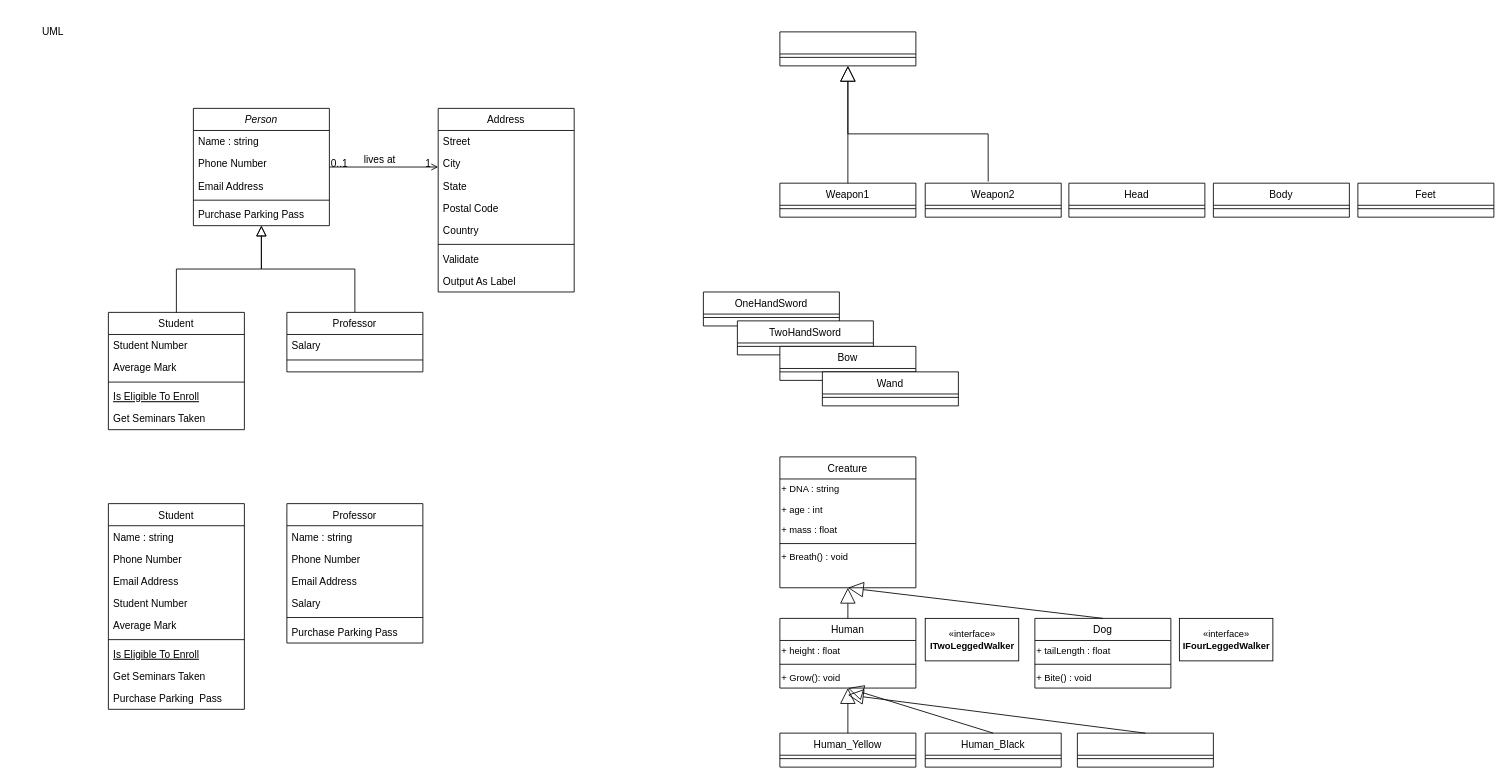
This 1509x782 diagram has some shape labels left out. The centre of each missing label's shape, as x and y in pixels:
"Equipment" goes at [847,48].
"Human_White" goes at [1145,749].
